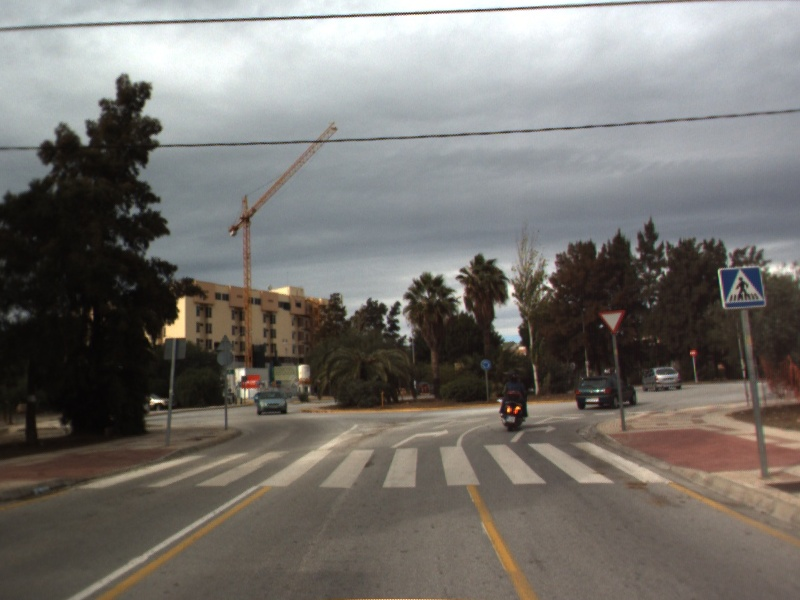RIGHT: (388, 426, 450, 450), (508, 423, 559, 444)
